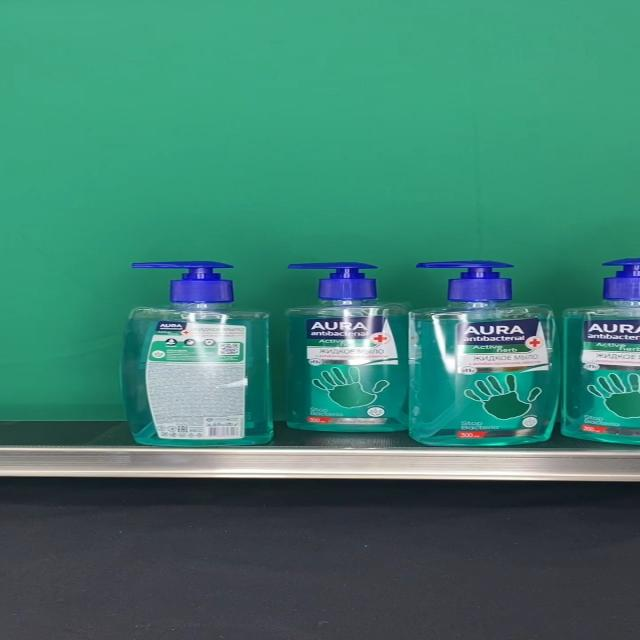Bottle: (120, 260, 273, 448), (408, 260, 560, 446), (283, 262, 413, 432)
Cap: (130, 260, 234, 302), (413, 260, 515, 302), (284, 262, 380, 300)
